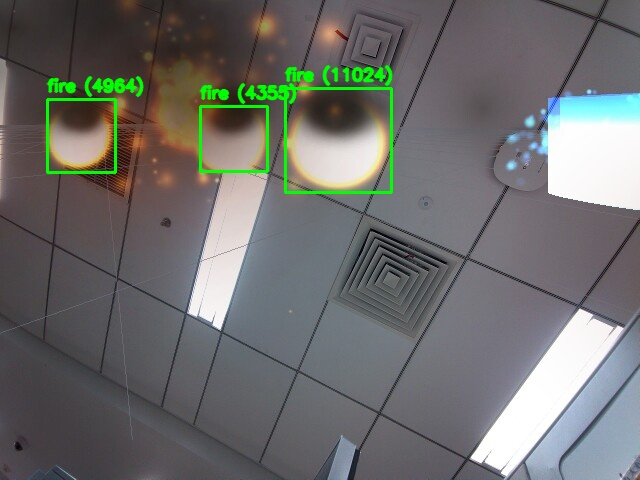fire: (285, 88, 391, 192), (47, 99, 115, 172), (200, 106, 267, 171)
